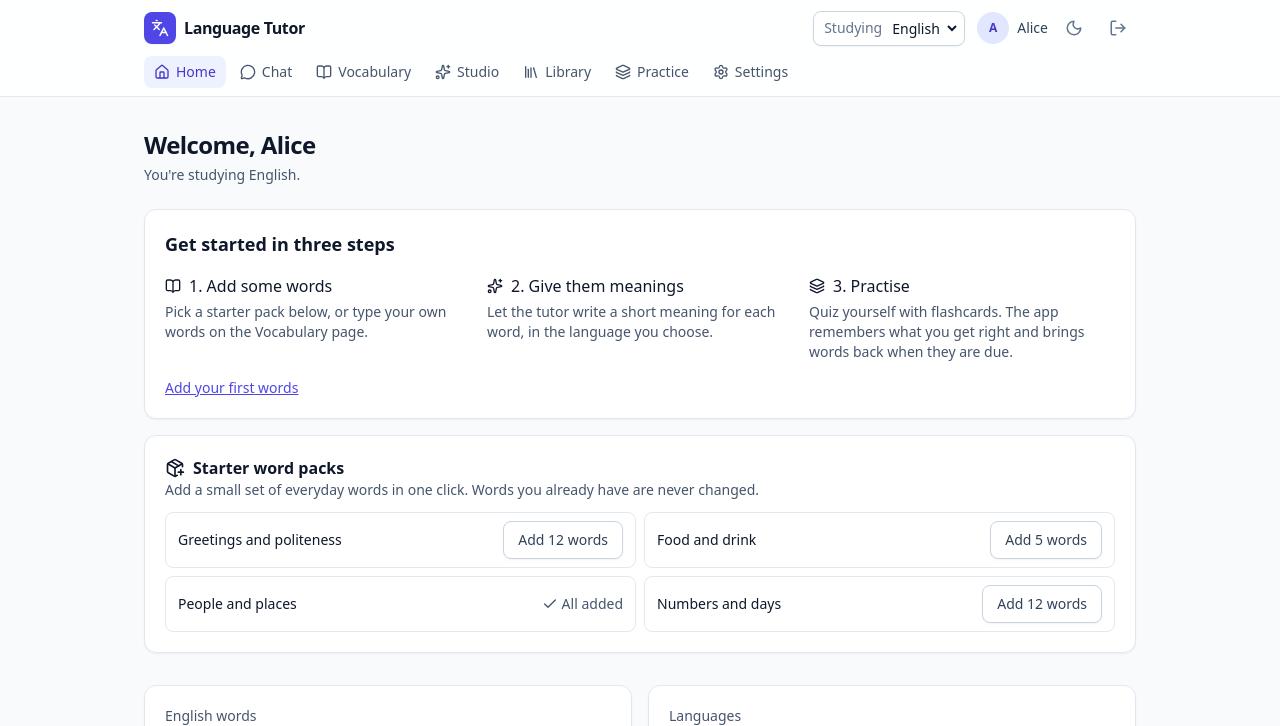
it: starter packs › says when there was nothing new
Click the button with aria-label "Greetings and politeness: Add 12 words" at (563, 540), box [503, 521, 623, 559]
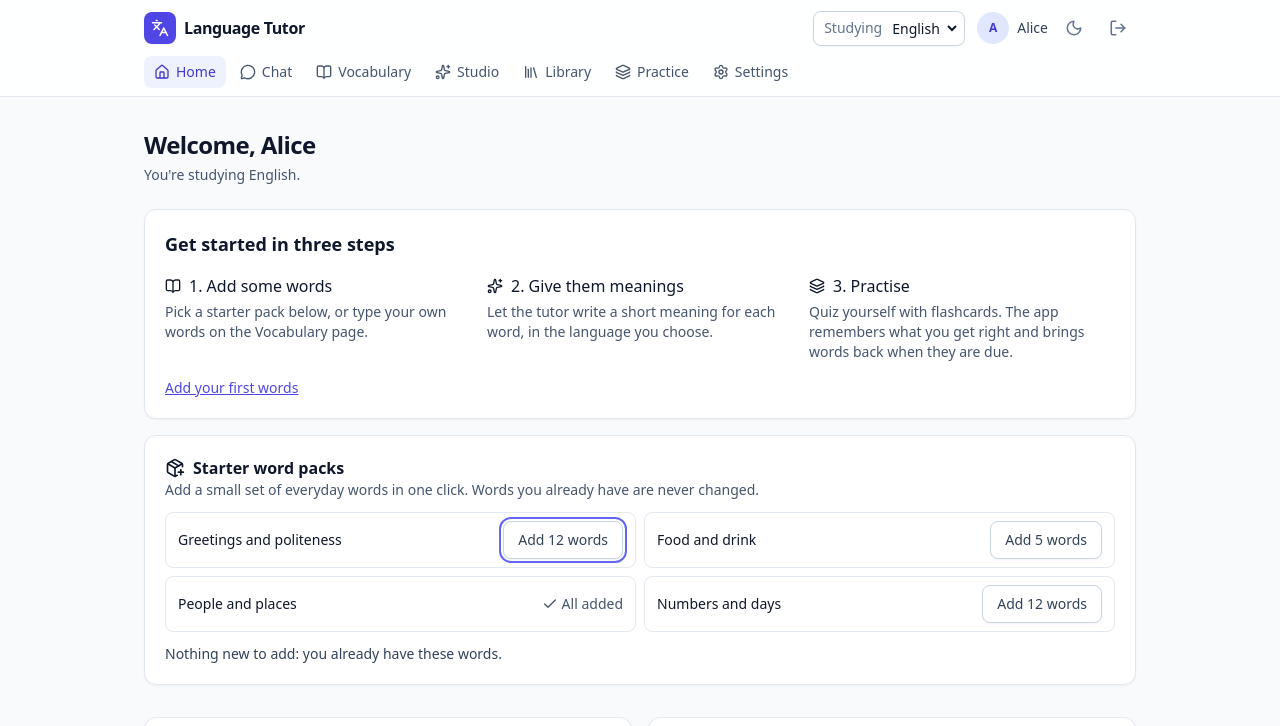
Now the text "Nothing new to add: you already have these words." is shown, box [165, 644, 502, 663]
